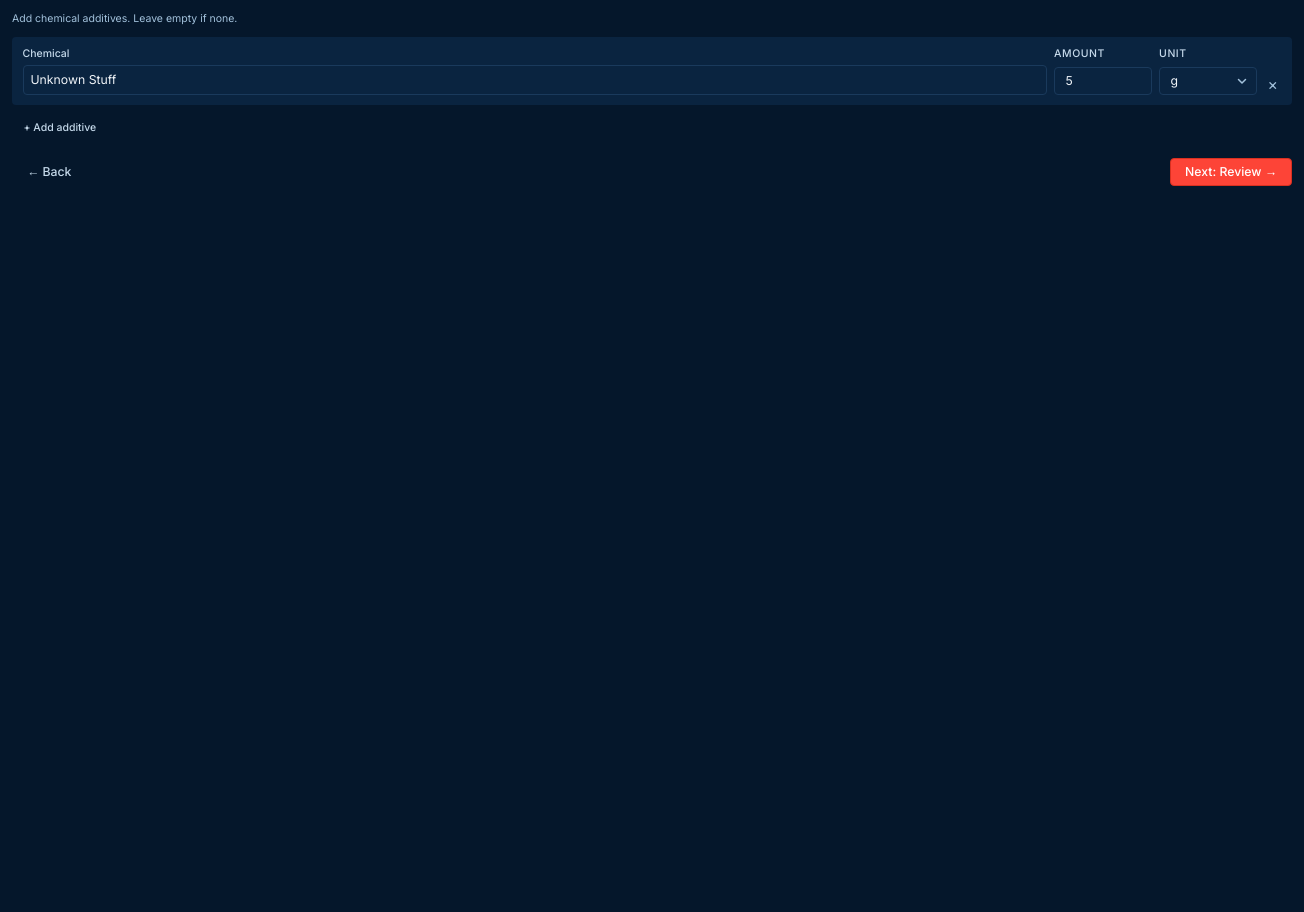
Scenario: Step3Additives validation › shows inline error on unresolved compound row
Step 1. Click the button "Next: Review →" → [1231, 172], box x1=1170 y1=158 x2=1292 y2=186
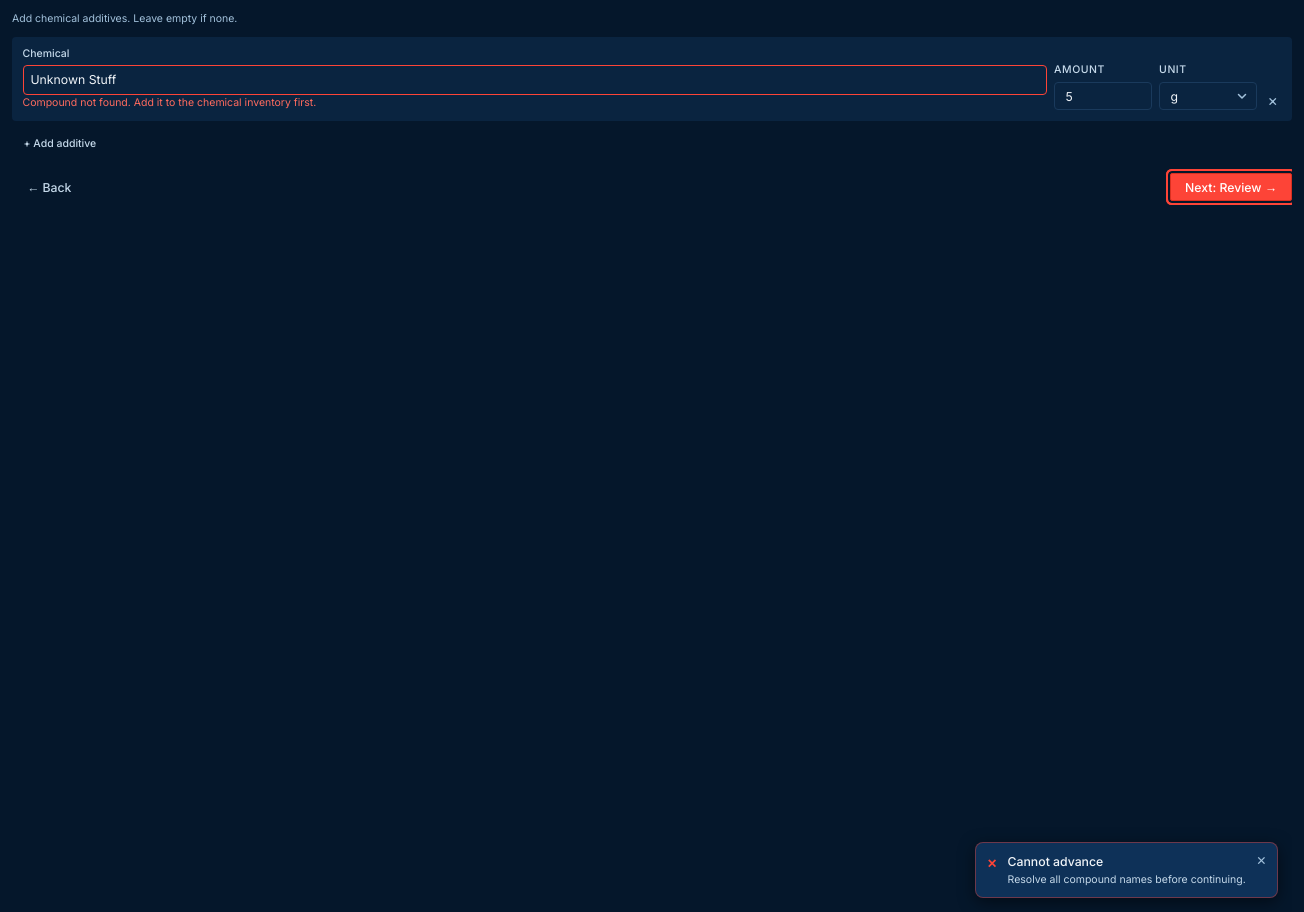
Expected: the text "Compound not found. Add it to the chemical inventory first." is shown, x1=22 y1=96 x2=316 y2=109
